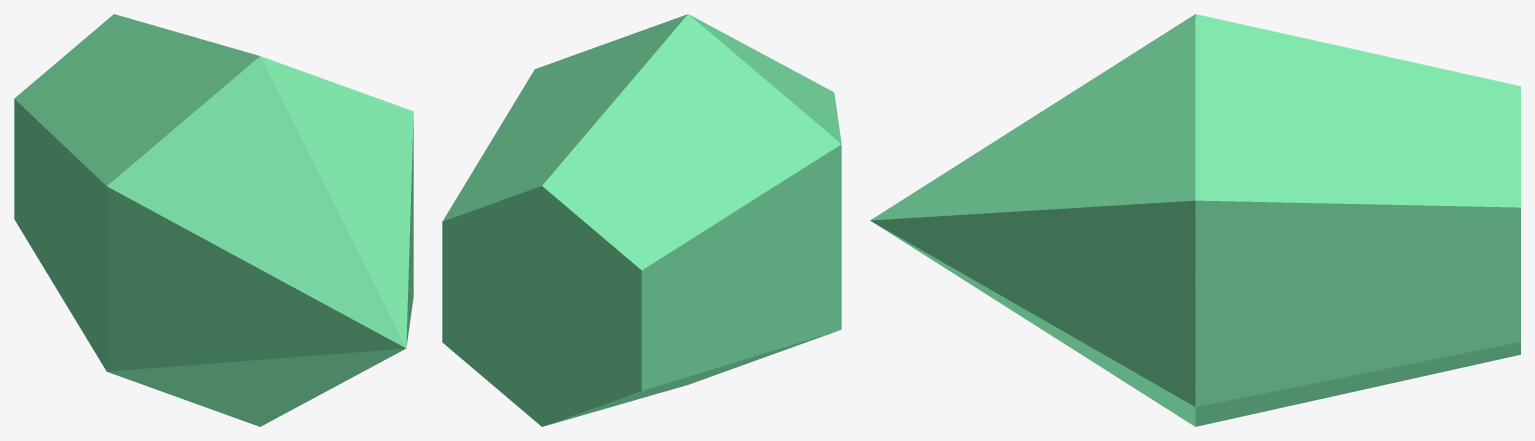
Rendered from emerald_held.gltf.
3 views of the same model, side by side, from view 1: azimuth 30°, elevation 25°; view 2: azimuth 150°, elevation 25°; view 3: azimuth 270°, elevation 25° (orthographic). The views are drawn at different scales.
Visible parts, largest first — view 1: ore_emerald_held; view 2: ore_emerald_held; view 3: ore_emerald_held.
Boxes of the visible parts, x1,y1,x2,y2 form: ore_emerald_held: [14, 14, 413, 426]; ore_emerald_held: [442, 14, 841, 426]; ore_emerald_held: [870, 14, 1520, 426].
Bounding box in the file's own units: 0.0606 × 0.07 × 0.1.
